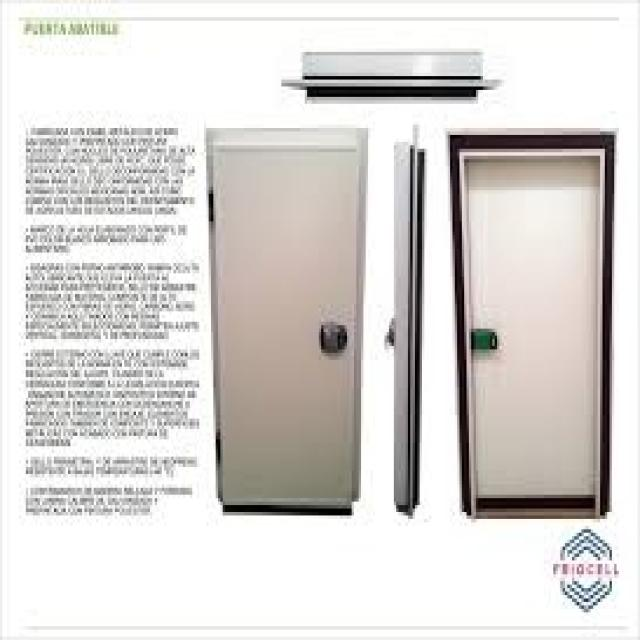door: (207, 128, 367, 515)
